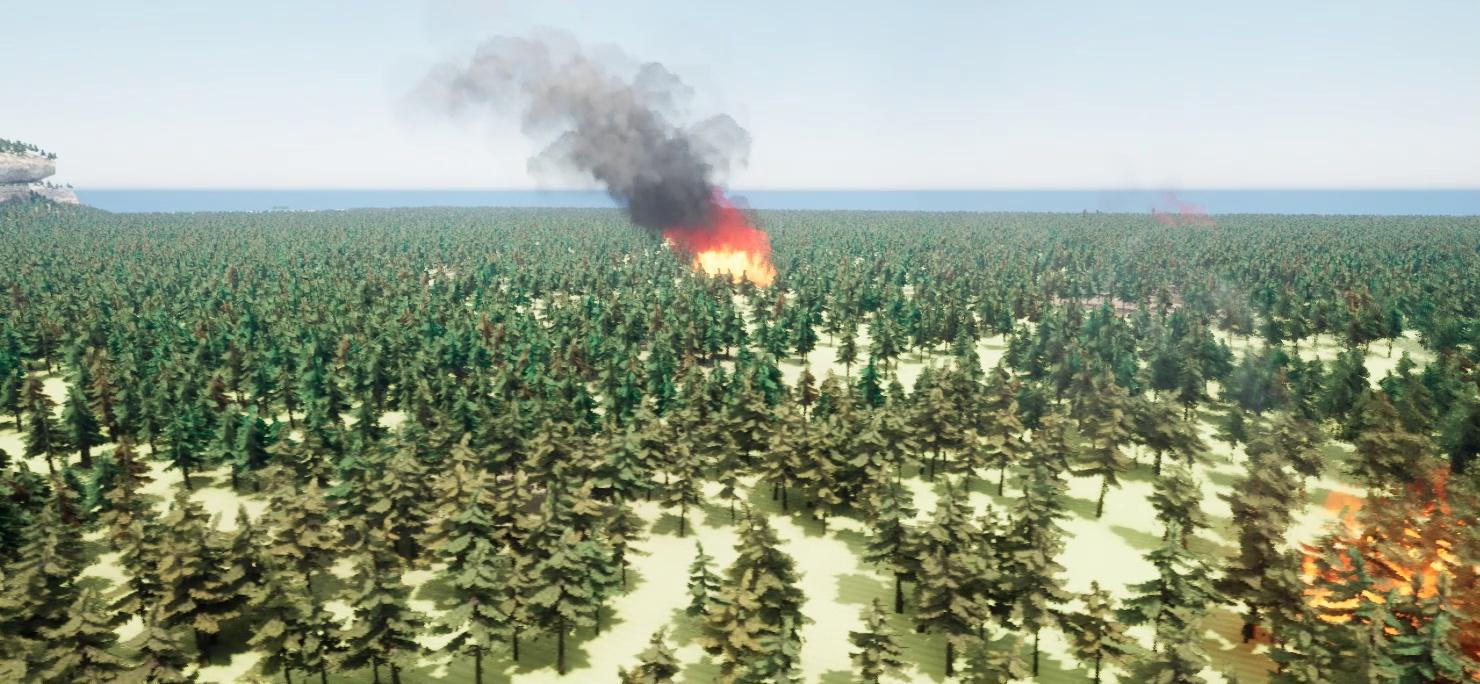fire: (1297, 477, 1479, 631), (698, 246, 777, 288)
smoke: (397, 28, 764, 249), (1148, 188, 1217, 229)
